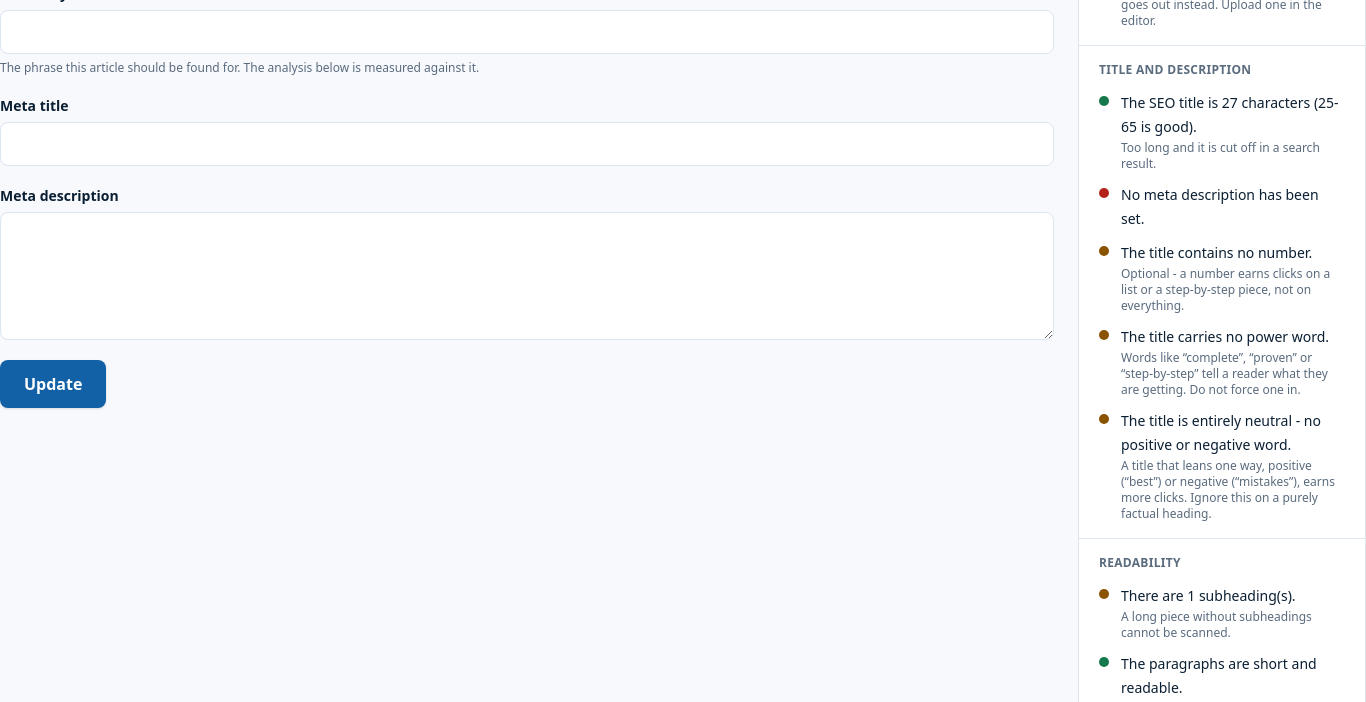
Test case: PostEditor publishing › offers Update and a link to the live article once published, not Publish
(page scrolled)
Expected: the button "Publish" is not shown
Click the button "Update": (53, 384) [0,360,106,408]
(page scrolled)
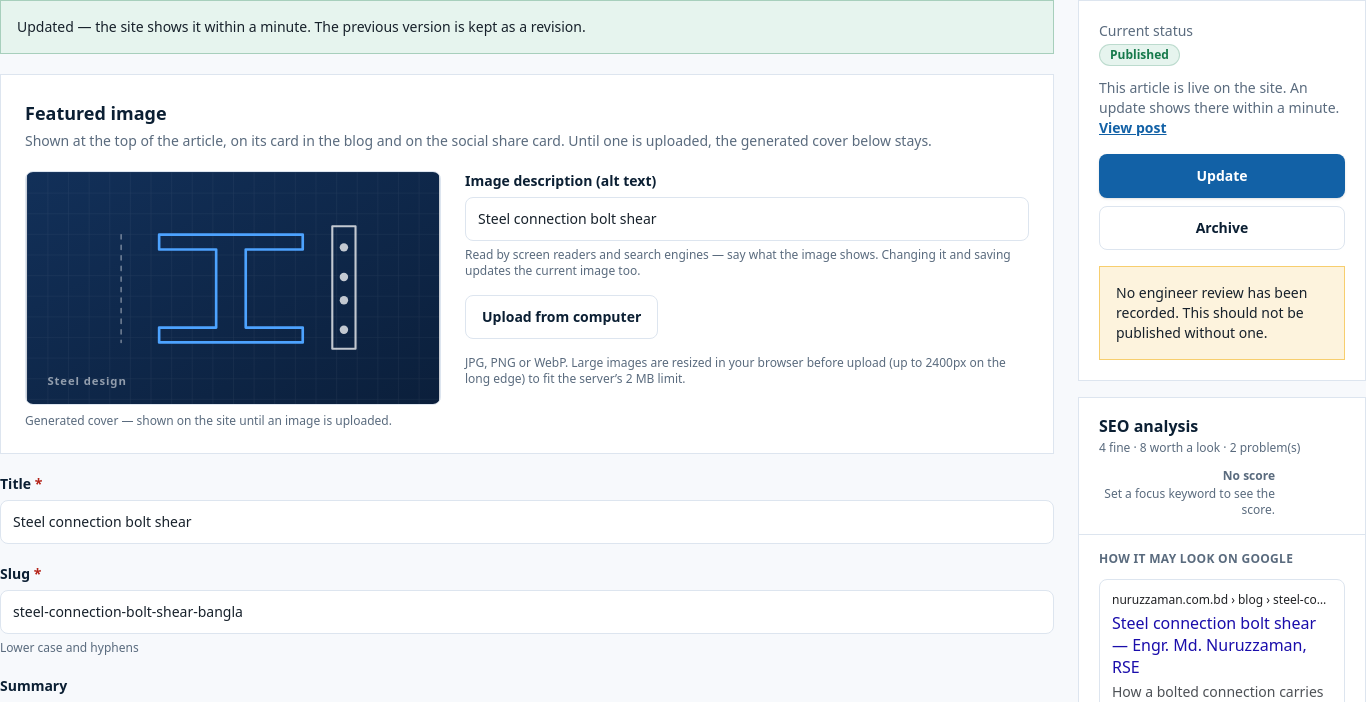
Now the text "Updated — the site shows it within a minute" is shown, box [17,17,586,36]
